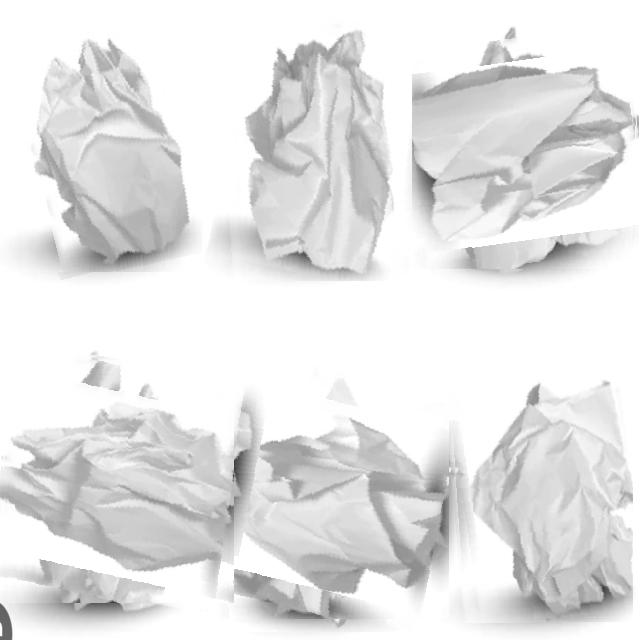biodegradable: (187, 358, 449, 619), (0, 351, 234, 603), (217, 8, 420, 281), (412, 29, 640, 269), (448, 360, 633, 623), (16, 21, 202, 272)
